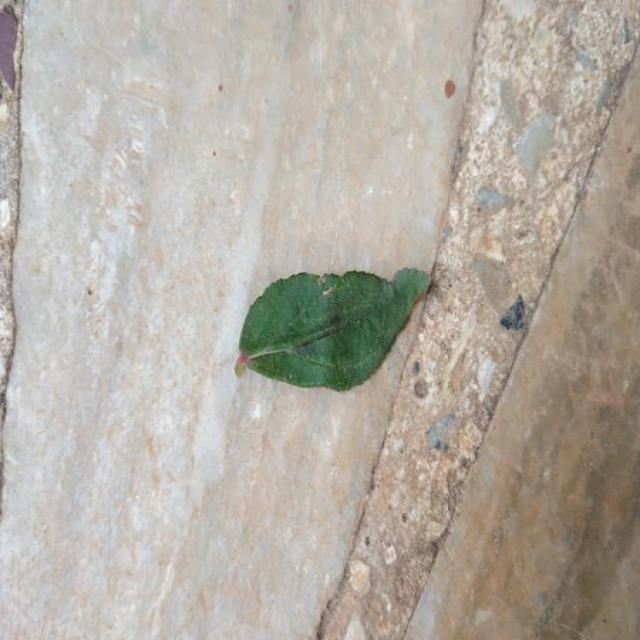Astma_weed: (237, 269, 428, 391)
defectetedAstma_weed: (3, 0, 480, 639), (238, 269, 428, 391)
